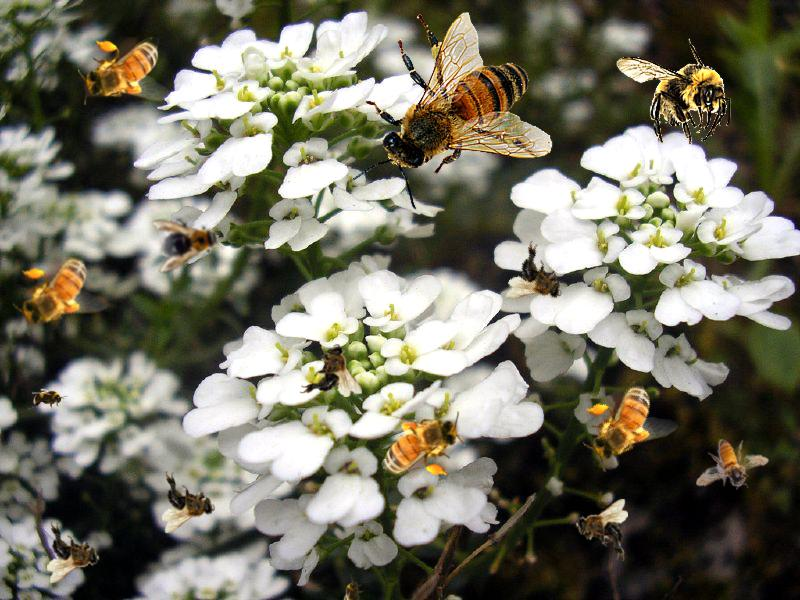Bee: (349, 12, 553, 211), (616, 38, 731, 145), (568, 372, 682, 475), (3, 246, 113, 339), (78, 37, 171, 105), (372, 411, 465, 479), (502, 238, 577, 318), (150, 208, 228, 274), (695, 437, 771, 492), (300, 344, 362, 397), (162, 471, 215, 533), (47, 521, 100, 583), (575, 499, 628, 561), (28, 388, 68, 410), (343, 575, 365, 600)
